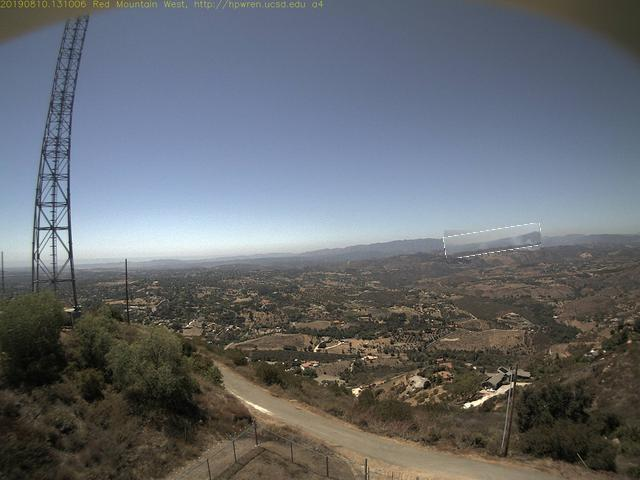smoke: (445, 228, 543, 257)
